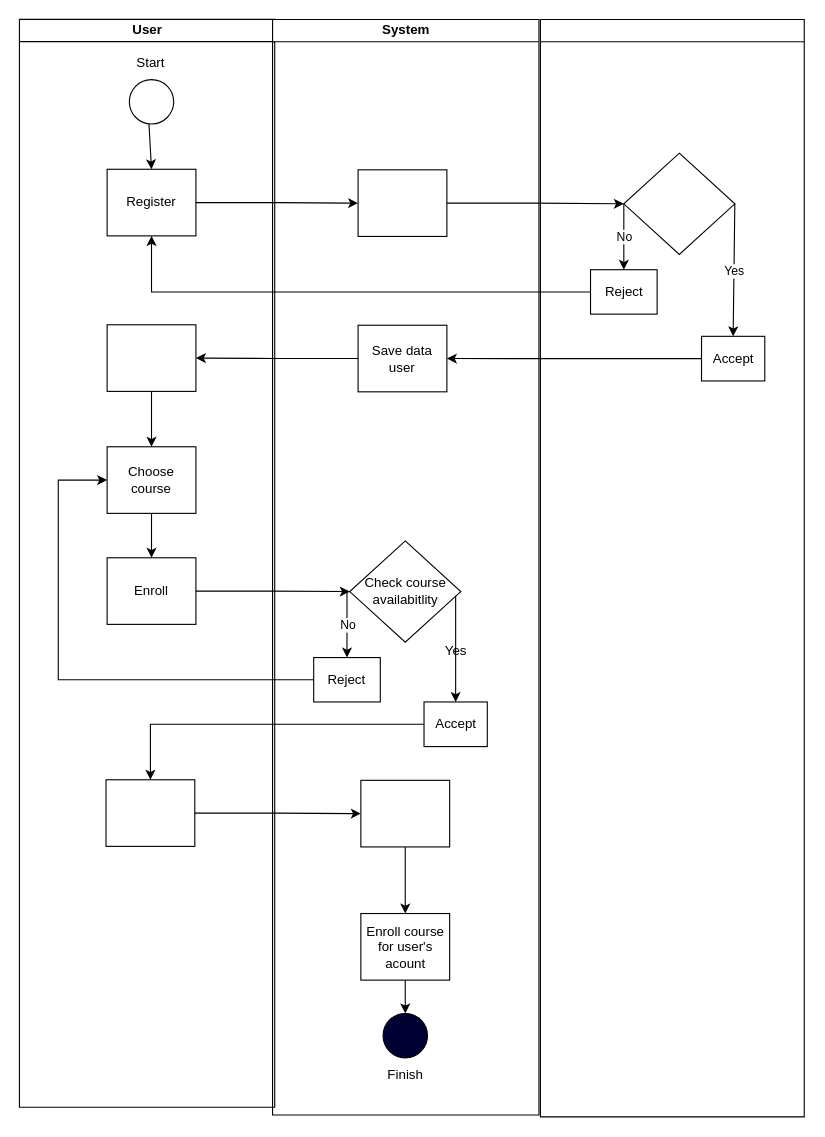
Some shapes in this 825 by 1137 pixel diagram are drawn without their labels. The shapes that lost their labels are listed below. From the top down, each one's centre as x and y in pixels, then its label:
At (x=402, y=202): "Send information to admin".
At (x=679, y=203): "Check authentication".
At (x=151, y=357): "Login".
At (x=671, y=567): "Admin".
At (x=150, y=812): "Payment".
At (x=405, y=813): "Receive money".
